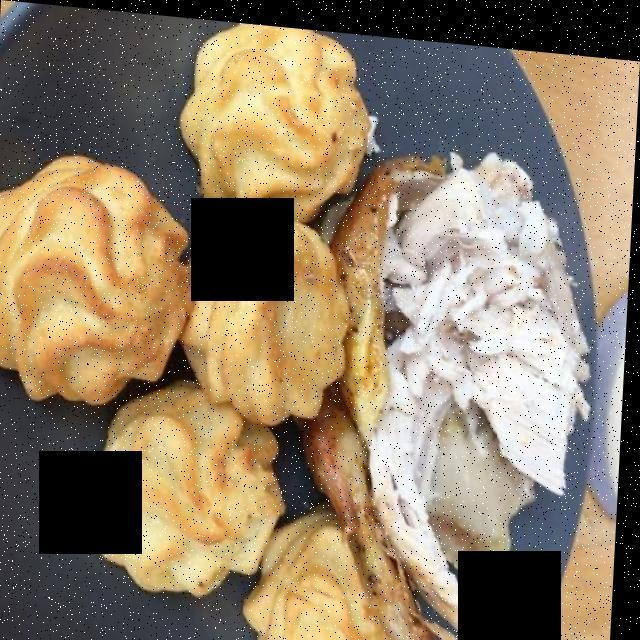chicken: (263, 128, 595, 640)
